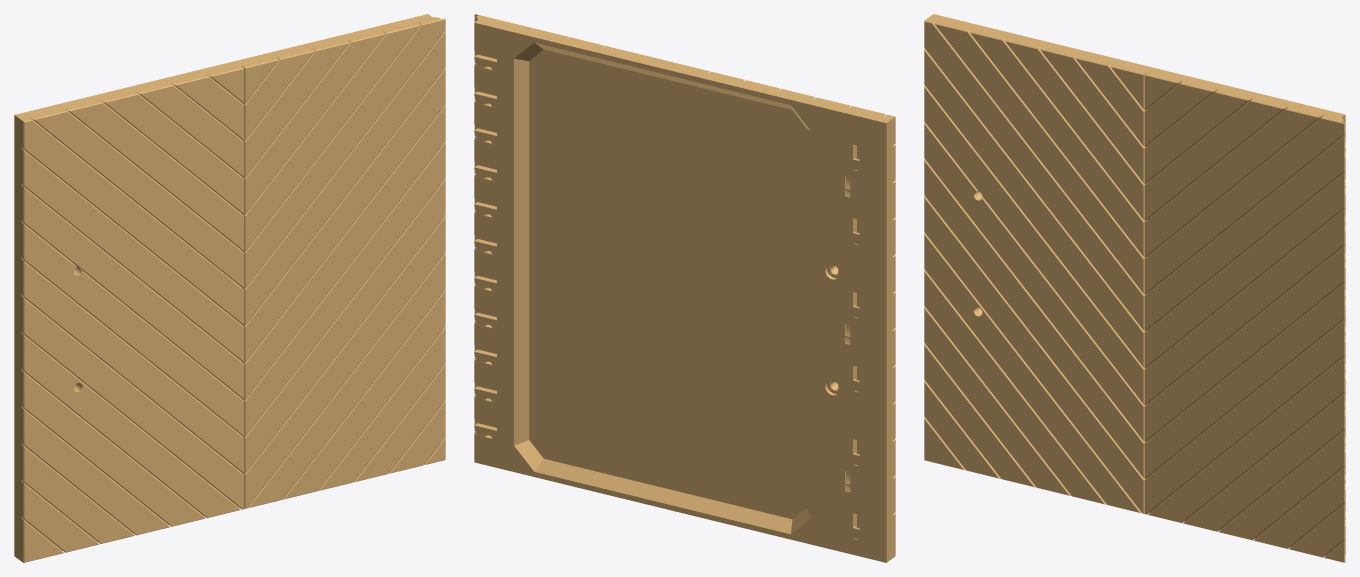
Rendered from Door_Chevron_2W-3H_RH.lib.glb.
3 views of the same model, side by side, from view 1: azimuth 30°, elevation 25°; view 2: azimuth 150°, elevation 25°; view 3: azimuth 330°, elevation 25° (orthographic).
Visible parts, largest first — view 1: Door_Chevron_2W-3H_RH; view 2: Door_Chevron_2W-3H_RH; view 3: Door_Chevron_2W-3H_RH.
Boxes of the visible parts, bbox=[...] form: Door_Chevron_2W-3H_RH: bbox=[14, 14, 445, 562]; Door_Chevron_2W-3H_RH: bbox=[474, 14, 895, 562]; Door_Chevron_2W-3H_RH: bbox=[924, 14, 1345, 562].
Size of the model in its own units: 167 by 167 by 6.51.
